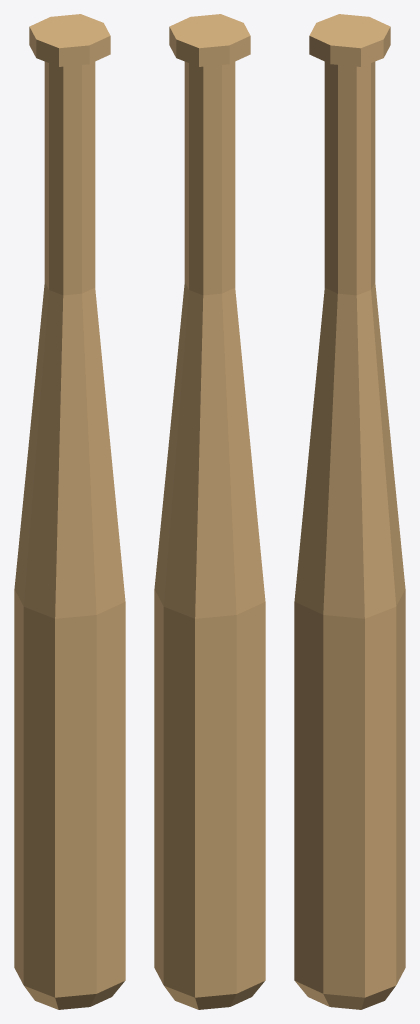
The model's file is bat.glb.
3 views of the same model, side by side, from view 1: azimuth 30°, elevation 25°; view 2: azimuth 210°, elevation 25°; view 3: azimuth 330°, elevation 25° (orthographic).
Visible parts, largest first — view 1: Baseball_bat_Cube.001; view 2: Baseball_bat_Cube.001; view 3: Baseball_bat_Cube.001.
Part boxes in pixels (left/top/right/bottom): Baseball_bat_Cube.001: left=14, top=14, right=125, bottom=1009; Baseball_bat_Cube.001: left=154, top=14, right=265, bottom=1009; Baseball_bat_Cube.001: left=294, top=14, right=405, bottom=1009.
Bounding box in the file's own units: 0.2528 × 2.51 × 0.2528.
1 material, 1 textured.
